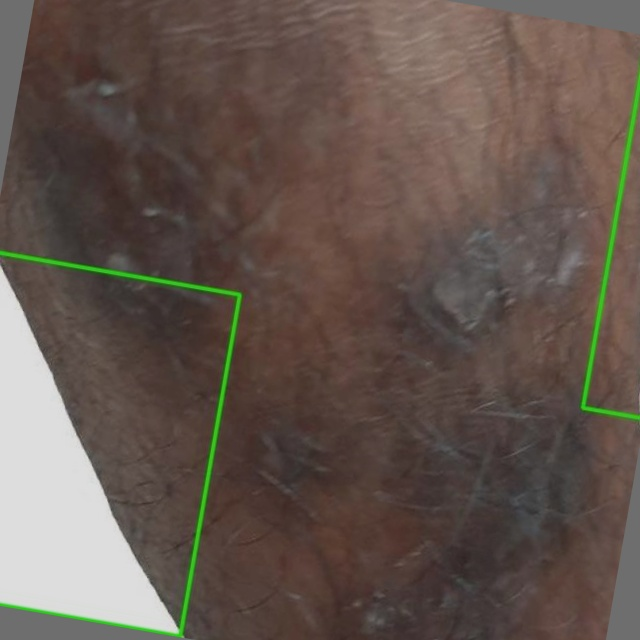Eczema: (0, 252, 239, 636)
